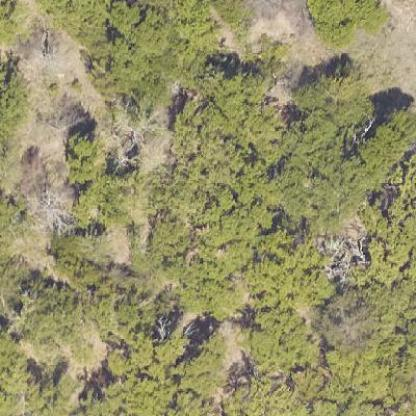tree-top: (19, 270, 90, 356), (244, 239, 336, 304), (293, 61, 382, 128), (240, 304, 320, 373), (176, 249, 241, 322), (299, 0, 393, 49), (74, 172, 143, 228), (320, 292, 378, 353), (0, 58, 32, 148), (58, 133, 102, 181)
